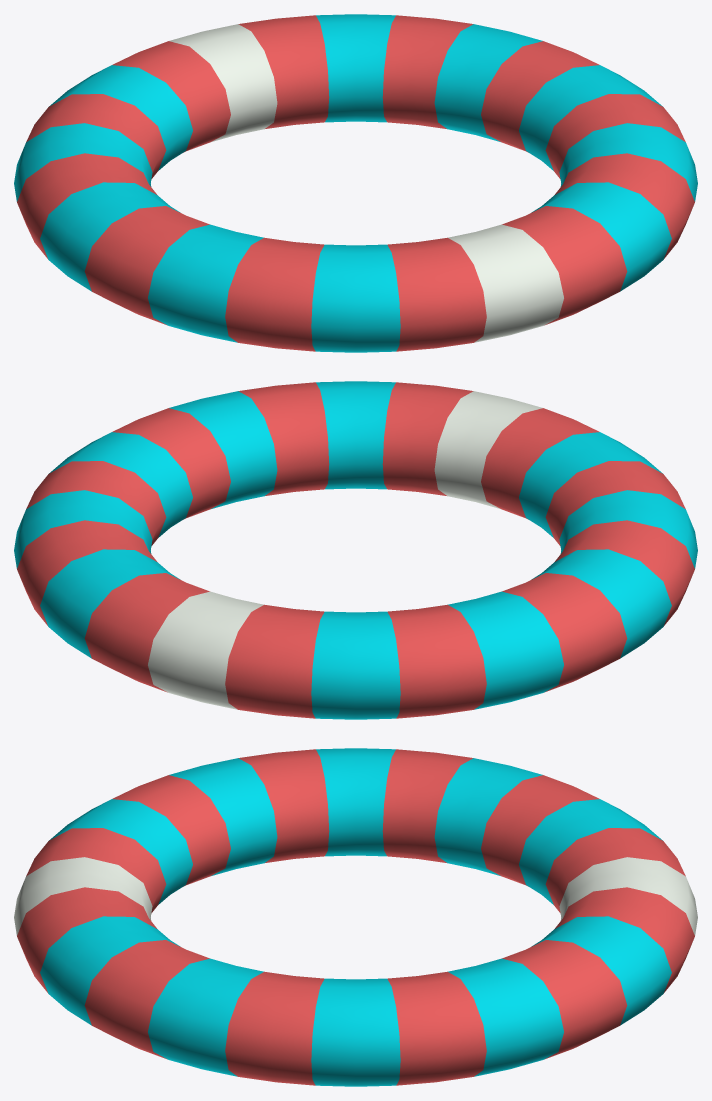
3 renders of one model, top to bottom at view 1: azimuth 30°, elevation 25°; view 2: azimuth 150°, elevation 25°; view 3: azimuth 270°, elevation 25°, orthographic.
Parts seen in each view (by area): view 1: Torus; view 2: Torus; view 3: Torus.
Boxes of the visible parts, <box> form: Torus: <box>14,14,697,352</box>; Torus: <box>14,381,697,719</box>; Torus: <box>14,748,697,1086</box>.
Bounding box in the file's own units: 1026 × 150 × 1026.
